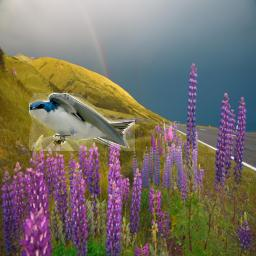Swallow: (29, 93, 135, 151)
